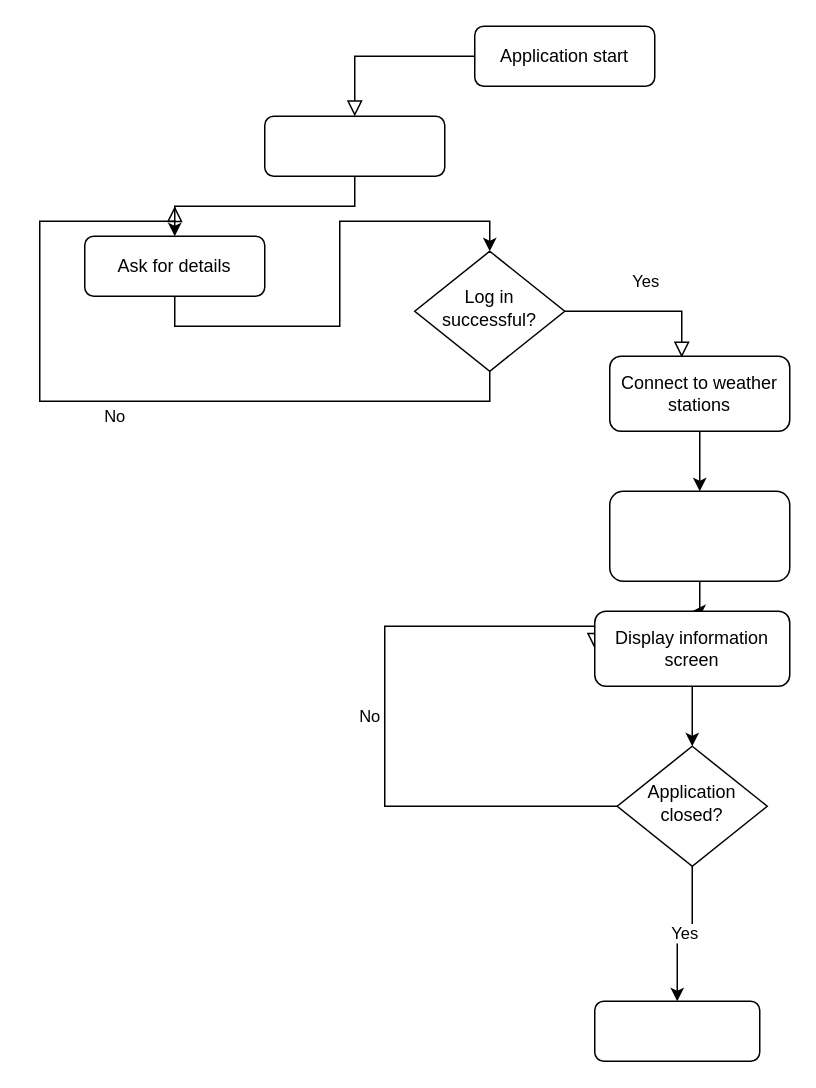
This 816x1088 diagram has some shape labels left out. Here are the shapes that lost their labels. From the top down, the centre of each, then its label:
At point (354, 145): "Display log in screen".
At point (699, 535): "Interpret incoming data".
At point (676, 1030): "Close".
